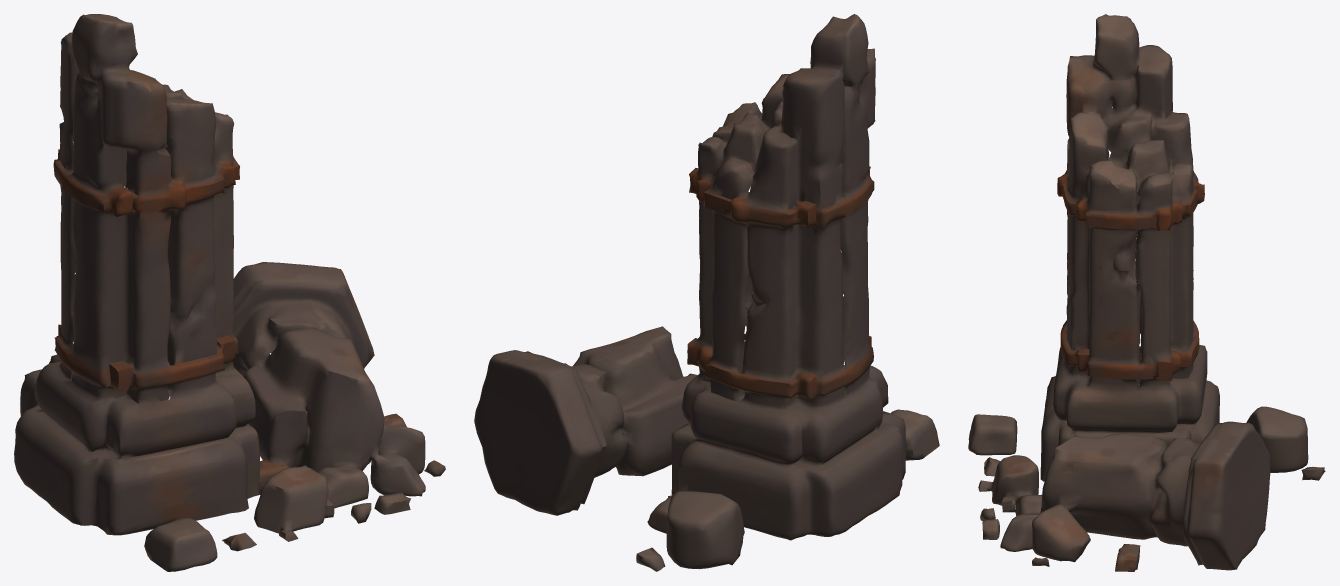
File: column_broken.glb
3 views of the same model, side by side, from view 1: azimuth 30°, elevation 25°; view 2: azimuth 150°, elevation 25°; view 3: azimuth 270°, elevation 25° (orthographic). The views are drawn at different scales.
Visible parts, largest first — view 1: tripo_node_52229b26; view 2: tripo_node_52229b26; view 3: tripo_node_52229b26.
Boxes of the visible parts, bbox=[...] form: tripo_node_52229b26: bbox=[14, 14, 445, 571]; tripo_node_52229b26: bbox=[474, 14, 939, 571]; tripo_node_52229b26: bbox=[968, 14, 1325, 571].
Bounding box in the file's own units: 75.14 × 99.62 × 73.92.
1 material, 1 textured.
